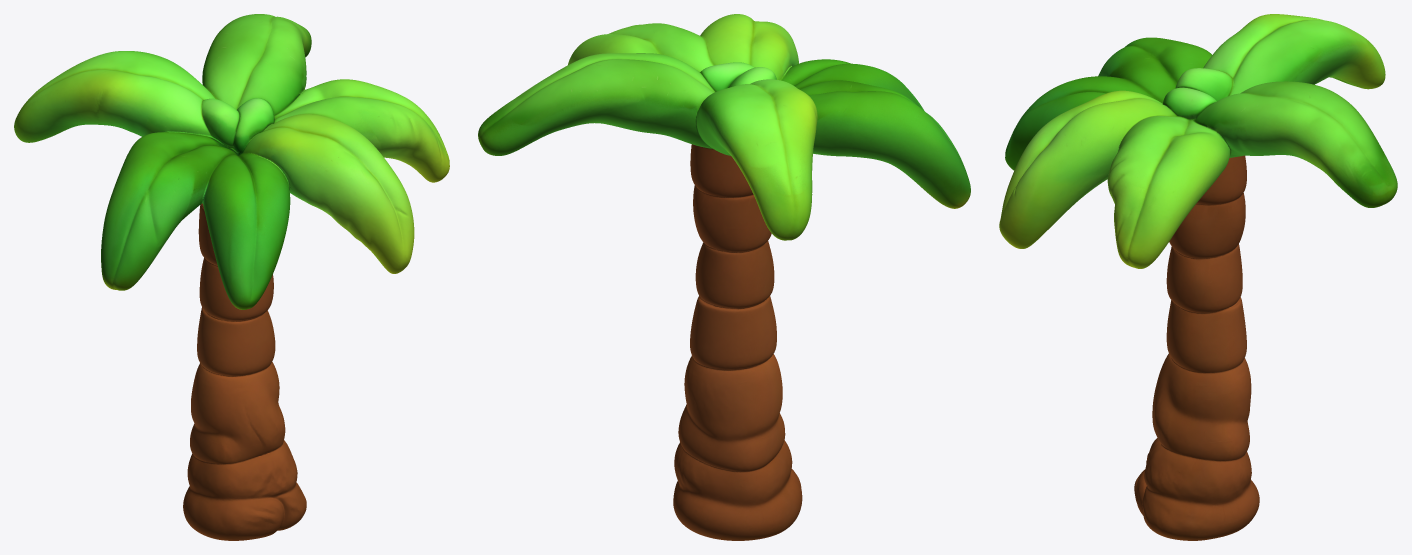
Rendered from palm.glb.
The picture shows the model from 3 angles, left to right: view 1: azimuth 30°, elevation 25°; view 2: azimuth 150°, elevation 25°; view 3: azimuth 270°, elevation 25°; orthographic projection. The views are drawn at different scales.
Size of the model in its own units: 1.58 by 1.9 by 1.48.
Materials: 1 (1 with a texture image).
